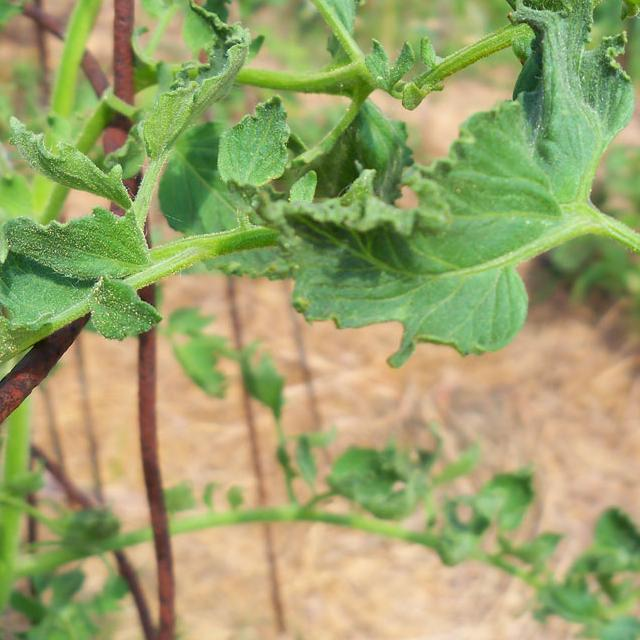Tomato leaf mosaic virus: (291, 100, 598, 352), (477, 0, 637, 222), (0, 205, 158, 353), (211, 94, 297, 189), (313, 0, 365, 40)
